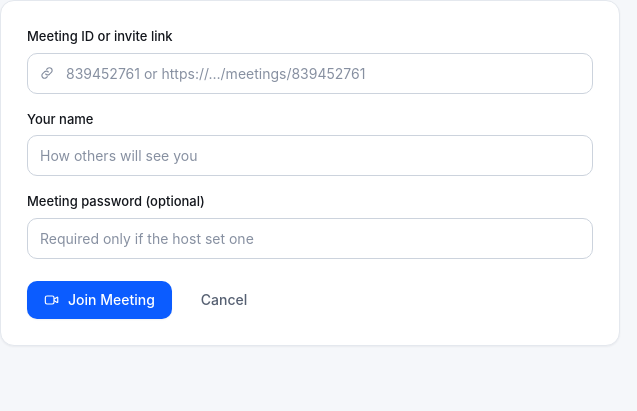
it: JoinForm › blocks submission without a meeting ID
This screenshot has width=637, height=411.
Click the button "Join Meeting" at (99, 300), box [27, 280, 172, 318]
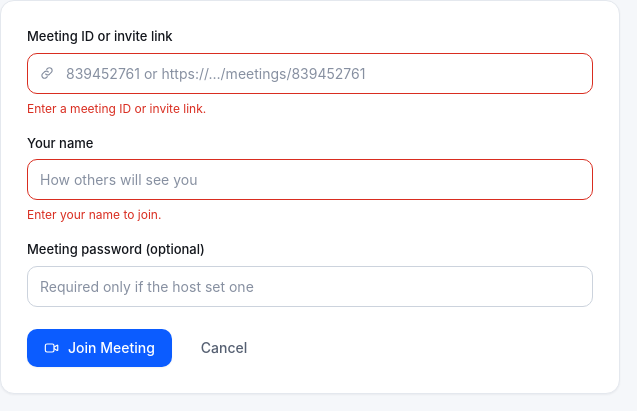
expect the text "Enter a meeting ID or invite link." is shown: met, box [27, 100, 206, 116]
